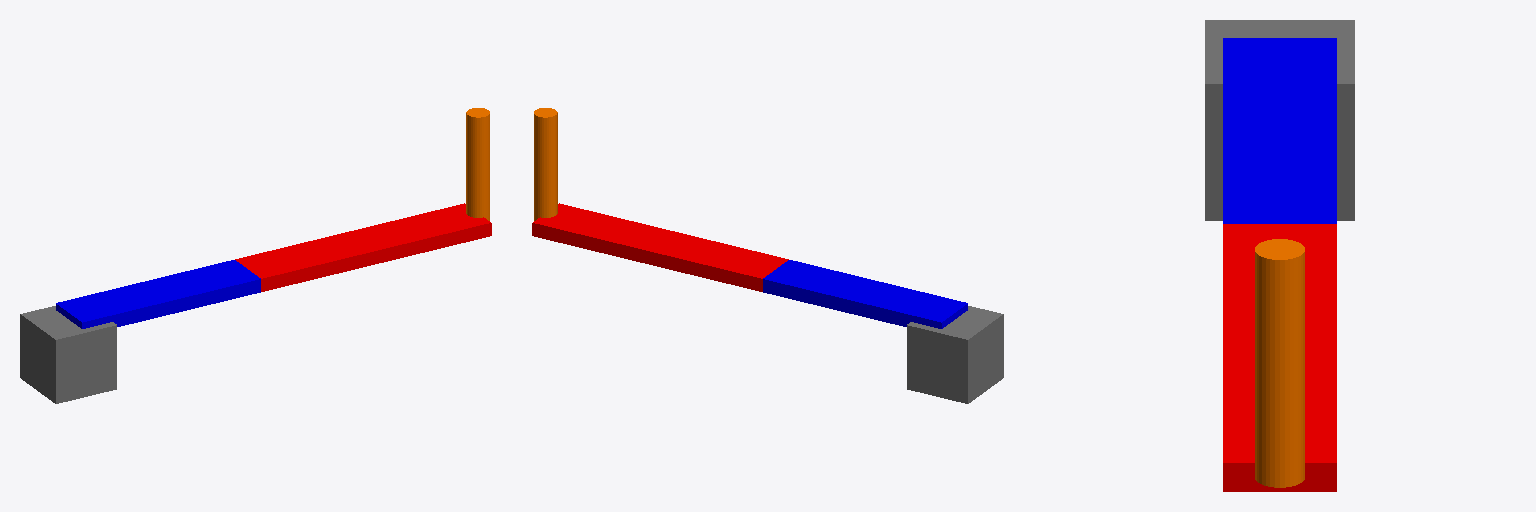
URDF robot description (scara_robot):
<?xml version="1.0"?>
<robot name="scara_robot">

  <!-- Base Link -->
  <link name="base_link">
    <visual>
      <geometry>
        <box size="0.12 0.12 0.12"/>
      </geometry>
      <origin xyz="0 0 0" rpy="0 0 0"/>
      <material name="gray">
        <color rgba="0.5 0.5 0.5 1"/>
      </material>
    </visual>
  </link>

  <!-- Link 1 (First arm segment) -->
  <link name="link1">
    <visual>
      <geometry>
        <box size="0.350 0.09 0.025"/>
      </geometry>
      <origin xyz="0.175 0 0" rpy="0 0 0"/>
      <material name="blue">
        <color rgba="0 0 1 1"/>
      </material>
    </visual>
  </link>

  <!-- Link 2 (Second arm segment) -->
  <link name="link2">
    <visual>
      <geometry>
        <box size="0.450 0.09 0.025"/>
      </geometry>
      <origin xyz="0.225 0 0" rpy="0 0 0"/>
      <material name="red">
        <color rgba="1 0 0 1"/>
      </material>
    </visual>
  </link>

  <!-- Link End Effector -->
  <link name="link_end_effector">
    <visual>
      <geometry>
        <cylinder radius="0.02" length="0.2"/>
      </geometry>
      <origin xyz="0 0 0.1" rpy="0 0 0"/>
      <material name="orange">
        <color rgba="1 0.5 0 1"/>
      </material>
    </visual>
  </link>

  <!-- Joint 1: Base to Link 1 (θ1) -->
  <joint name="joint1" type="revolute">
    <parent link="base_link"/>
    <child link="link1"/>
    <origin xyz="0 0 0.06" rpy="0 0 0"/>
    <axis xyz="0 0 1"/>
    <limit lower="-3.14" upper="3.14" effort="10" velocity="1"/>
    <dynamics damping="0.1" friction="0.1"/>
  </joint>

  <!-- Joint 2: Link 1 to Link 2 (θ2) -->
  <joint name="joint2" type="revolute">
    <parent link="link1"/>
    <child link="link2"/>
    <origin xyz="0.35 0 0" rpy="0 0 0"/>
    <axis xyz="0 0 1"/>
    <limit lower="-3.14" upper="3.14" effort="8" velocity="1"/>
    <dynamics damping="0.1" friction="0.1"/>
  </joint>

  <!-- End Effector: Link 2 to End Effector (d3 - Prismatic) -->
  <joint name="end_effector" type="prismatic">
    <parent link="link2"/>
    <child link="link_end_effector"/>
    <origin xyz="0.45 0 0" rpy="0 0 0"/>
    <axis xyz="0 0 -1"/>
    <limit lower="-0.16" upper="0.038" effort="5" velocity="0.2"/>
    <dynamics damping="0.1" friction="0.1"/>
  </joint>

</robot>

--- What the picture shows (computed from the rendered views, not written in the file) ---
Views: 3 orthographic renders of the robot side by side, from view 1: azimuth 30°, elevation 25°; view 2: azimuth 150°, elevation 25°; view 3: azimuth 270°, elevation 25°.
Robot: scara_robot — 4 links, 3 joints (2 revolute, 1 prismatic); root link base_link; default pose: all joints at 0.
Visible links, largest first — view 1: link2, base_link, link1, link_end_effector; view 2: link2, base_link, link1, link_end_effector; view 3: link1, link2, link_end_effector, base_link.
Boxes of the visible links, x1,y1,x2,y2 form: link2: [235, 203, 491, 291]; base_link: [20, 306, 116, 403]; link1: [56, 260, 260, 328]; link_end_effector: [466, 108, 489, 220]; link2: [532, 203, 788, 291]; base_link: [907, 306, 1003, 403]; link1: [763, 260, 967, 328]; link_end_effector: [534, 108, 557, 220]; link1: [1223, 38, 1336, 223]; link2: [1223, 224, 1336, 491]; link_end_effector: [1255, 239, 1304, 487]; base_link: [1205, 20, 1354, 220].
Size in the robot's own frame: 0.88 by 0.12 by 0.32 metres.
Geometry: primitives only (box / cylinder / sphere), no mesh files.
